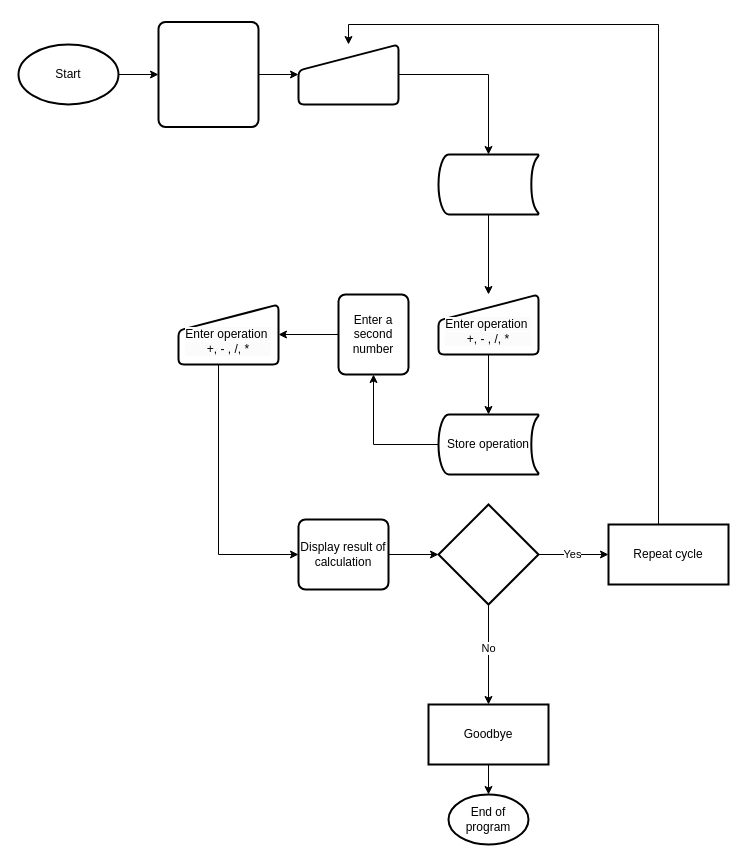
Image size: 746x863. Some labels were removed from this diagram. Each missing label, with the centre of its shape:
"Display welcome message and instructions" belongs at (208,74).
"Do you want to perform another calculation?" belongs at (488,554).
"Enter Number" belongs at (348,74).
"store number" belongs at (488,184).
